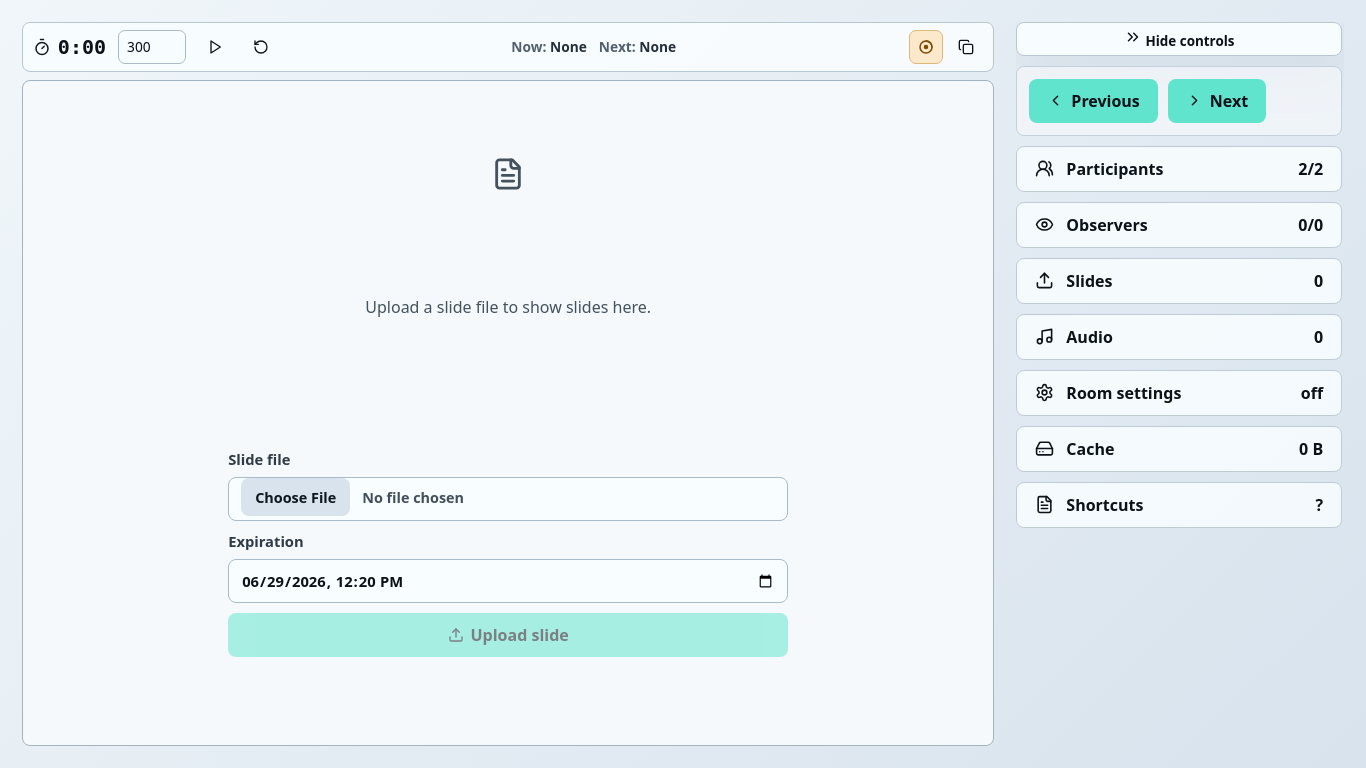
Test case: App landing polish › dedupes offline command notifications until realtime reconnects
Click the button "Participants 2/2": (1115, 169) [1017, 147, 1341, 191]
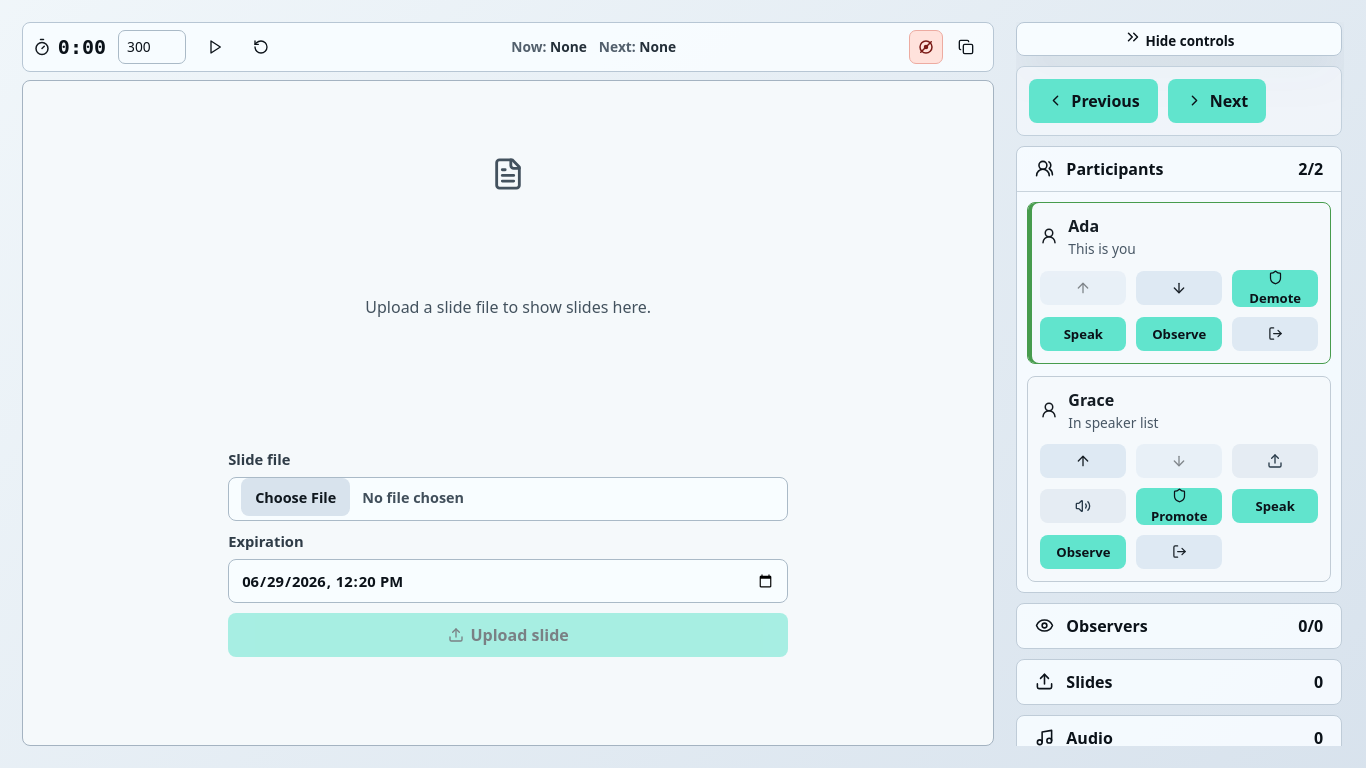
expect the button named "Move down" below "This is you" is shown: met
Click the button named "Move down" below "This is you": (1179, 288) [1136, 271, 1222, 305]
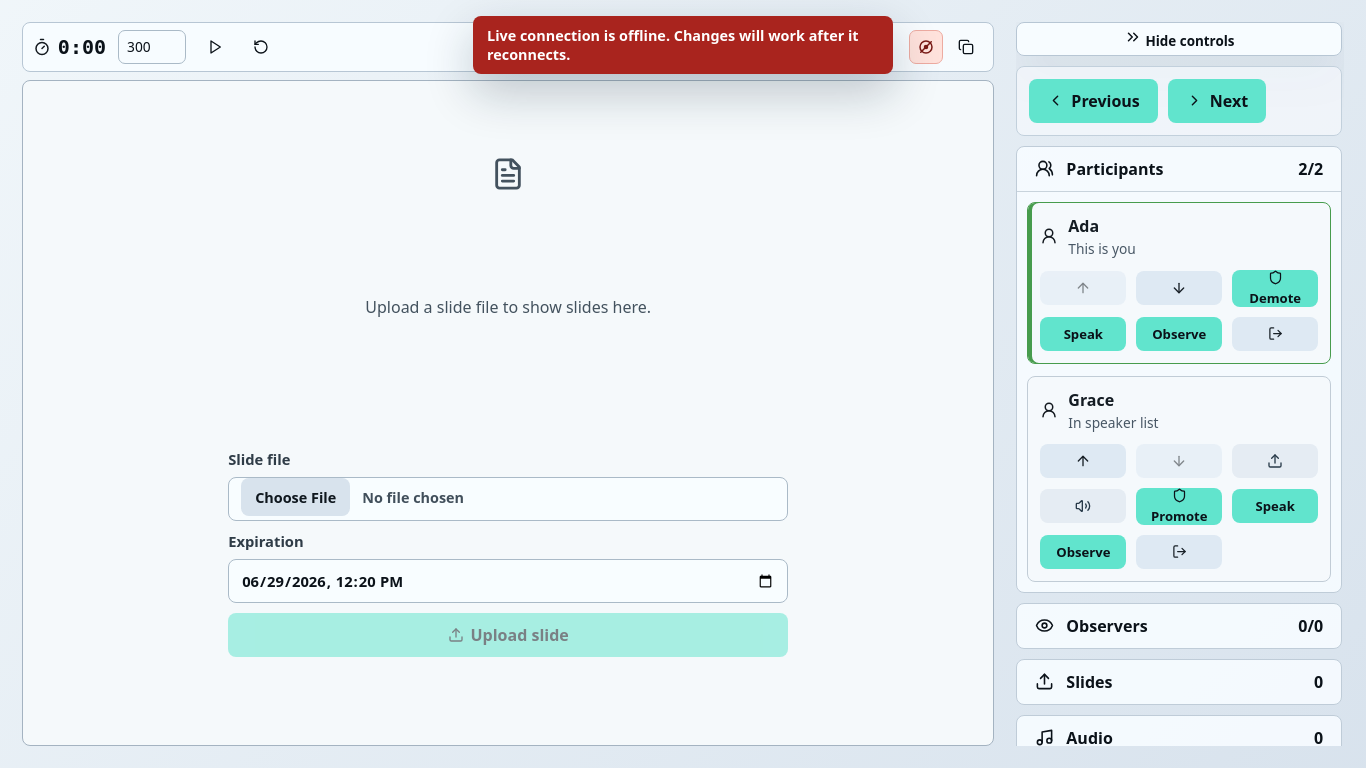
Click the button named "Move down" below "This is you": (1179, 288) [1136, 271, 1222, 305]
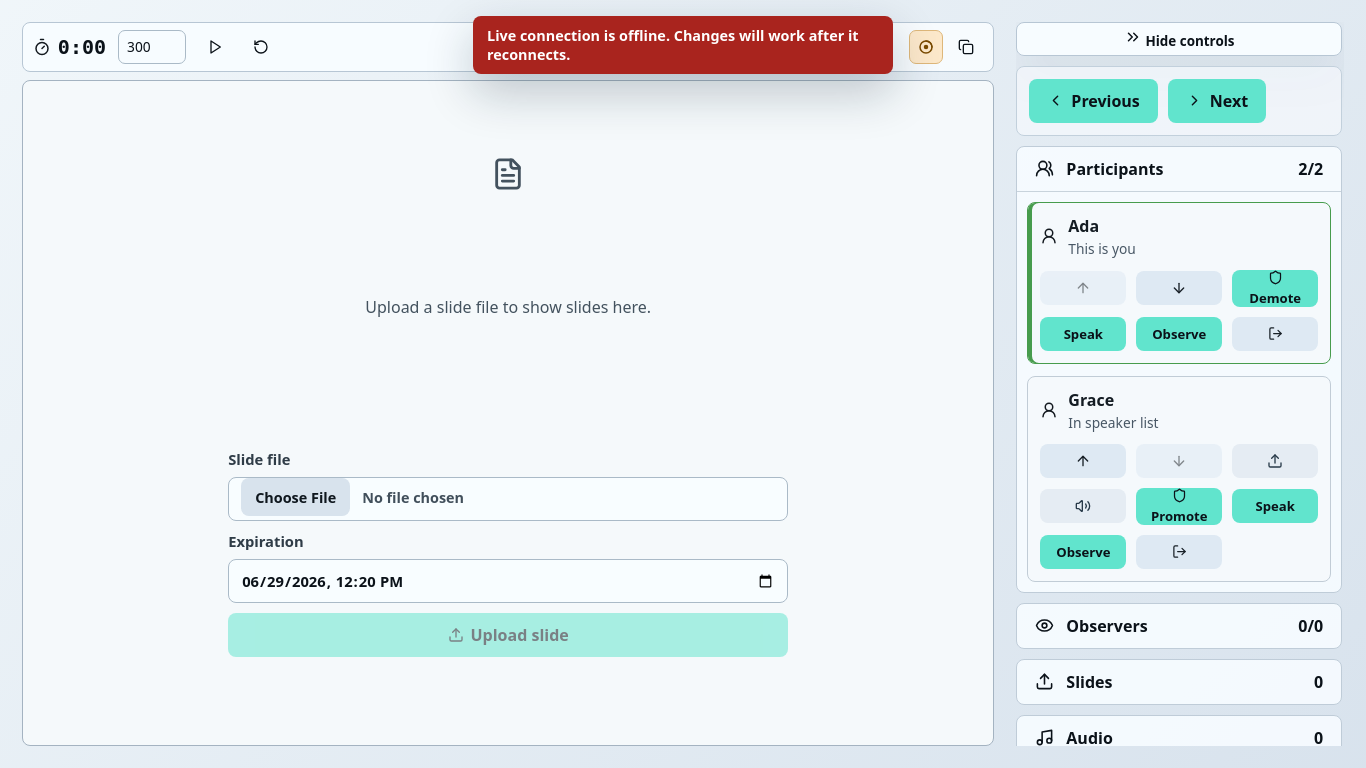
expect the text "Live connection is offline. Changes will work after it reconnects." is shown once: met, box [473, 16, 893, 74]
Click the button named "Move down" below "This is you": (1179, 288) [1136, 271, 1222, 305]
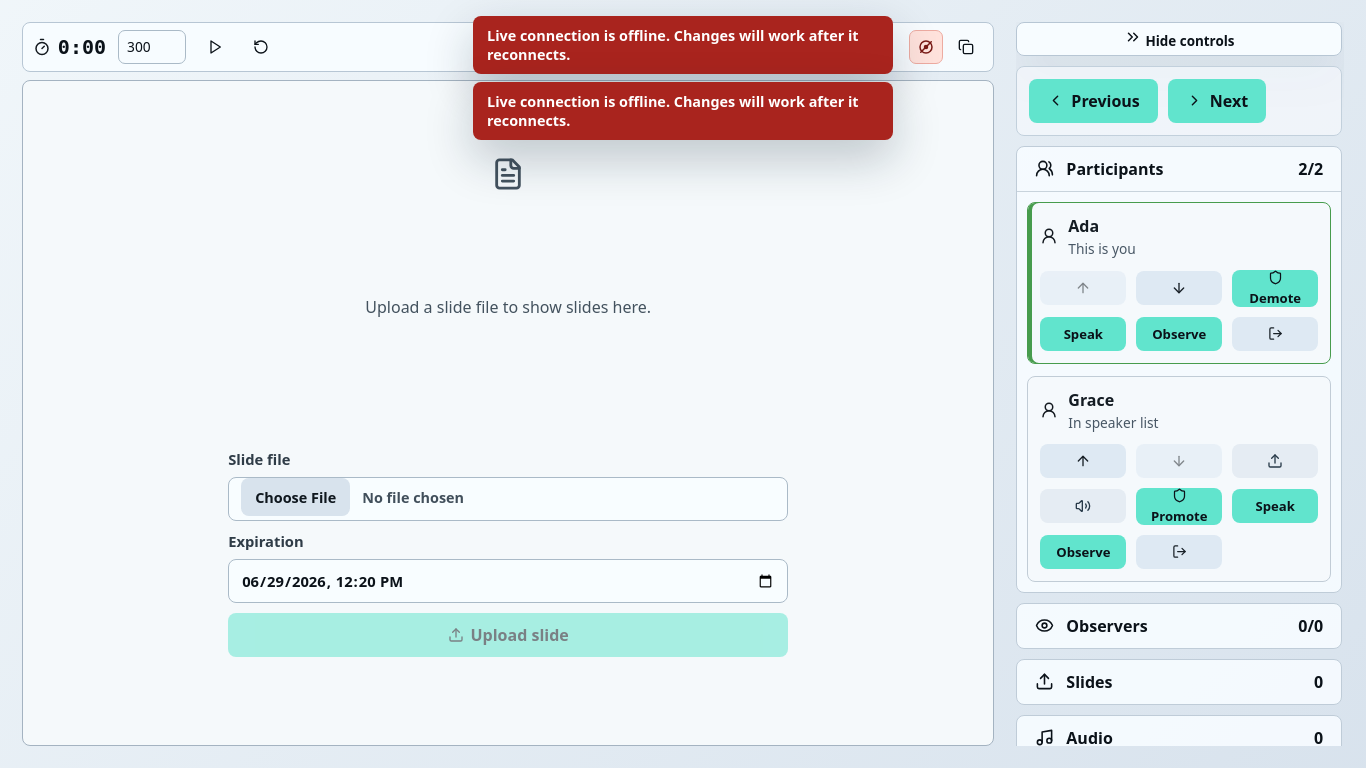
expect the text "Live connection is offline. Changes will work after it reconnects." is shown 2 times: met, box [473, 16, 893, 74]; [473, 82, 893, 140]
